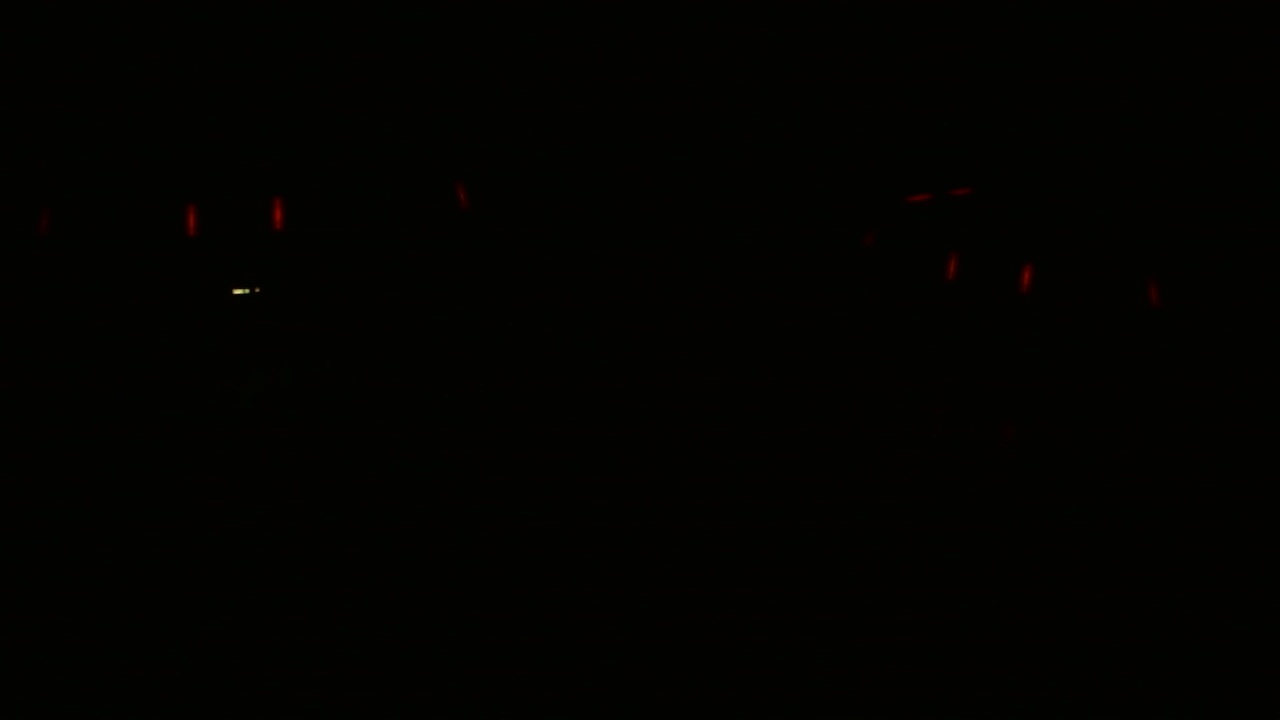pair1: (948, 250, 1033, 298)
